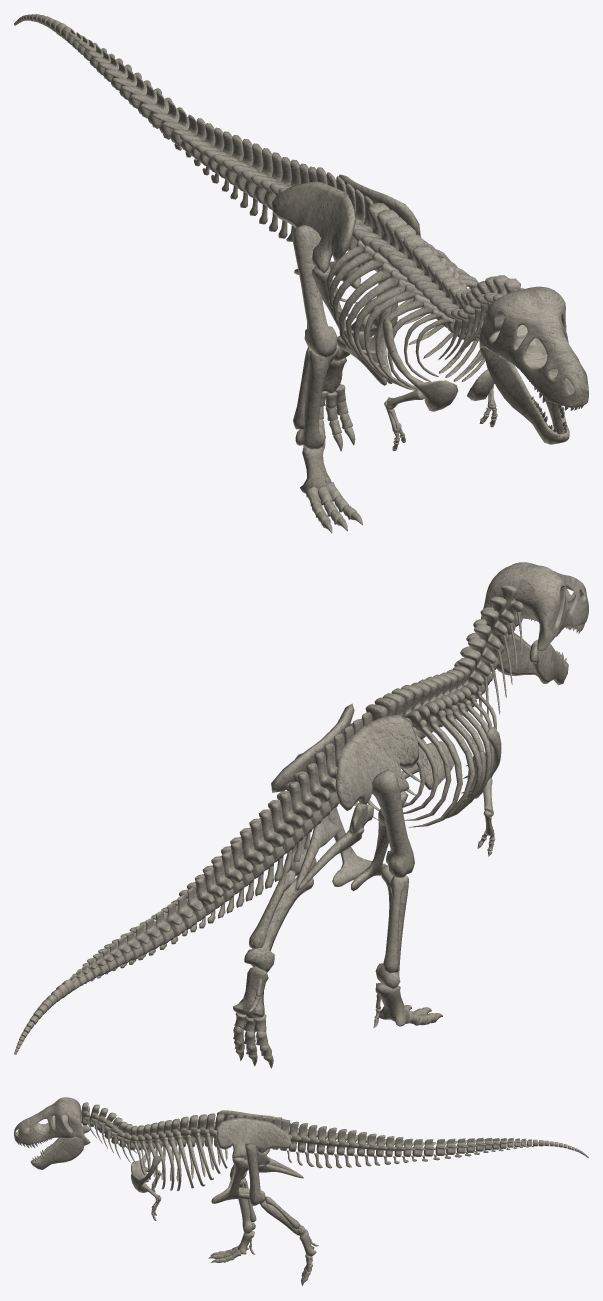
3 renders of one model, top to bottom at view 1: azimuth 30°, elevation 25°; view 2: azimuth 150°, elevation 25°; view 3: azimuth 270°, elevation 25°, orthographic. The views are drawn at different scales.
Parts seen in each view (by area): view 1: polySurface1, pCube70, pCube79, pCube2, pCube80, pCube57, pCube77, pCube82, pCube42, pCube40, pCube39, pCube41 (+4 smaller); view 2: pCube70, polySurface1, pCube79, pCube80, pCube78, pCube81, pCube2, pCube77, pCube82, pCube57, pCube39, pCube40 (+11 smaller); view 3: pCube70, polySurface1, pCube2, pCube77, pCube79, pCube80, pCube57, pCube78, pCube82, pCube81, pCube39, pCube40 (+5 smaller).
Part boxes in pixels (x1,y1,x2,y2): polySurface1: (479, 286, 588, 407); pCube70: (272, 174, 420, 273); pCube79: (292, 225, 397, 357); pCube2: (480, 347, 569, 444); pCube80: (295, 314, 376, 449); pCube57: (382, 319, 493, 411); pCube77: (312, 266, 395, 385); pCube82: (300, 357, 346, 493); pCube42: (364, 272, 478, 385); pCube40: (345, 257, 472, 367); pCube39: (339, 250, 457, 353); pCube41: (353, 266, 478, 378); pCube70: (271, 703, 418, 810); polySurface1: (481, 562, 588, 651); pCube79: (284, 753, 414, 877); pCube80: (244, 865, 408, 988); pCube78: (295, 802, 373, 890); pCube81: (249, 870, 406, 973); pCube2: (496, 633, 568, 685); pCube77: (328, 791, 408, 890); pCube82: (233, 966, 406, 1026); pCube57: (418, 726, 501, 798); pCube39: (356, 716, 462, 827); pCube40: (368, 710, 475, 824); pCube70: (216, 1110, 291, 1158); polySurface1: (14, 1097, 85, 1144); pCube2: (30, 1125, 90, 1169); pCube77: (211, 1153, 249, 1203); pCube79: (230, 1143, 265, 1205); pCube80: (238, 1179, 305, 1235); pCube57: (131, 1149, 161, 1192); pCube78: (257, 1149, 303, 1178); pCube82: (237, 1229, 316, 1256); pCube81: (242, 1177, 299, 1228); pCube39: (183, 1134, 205, 1186); pCube40: (174, 1123, 193, 1188).
Bounding box in the file's own units: 0.0646 × 0.161 × 0.4851.
1 material, 1 textured.
